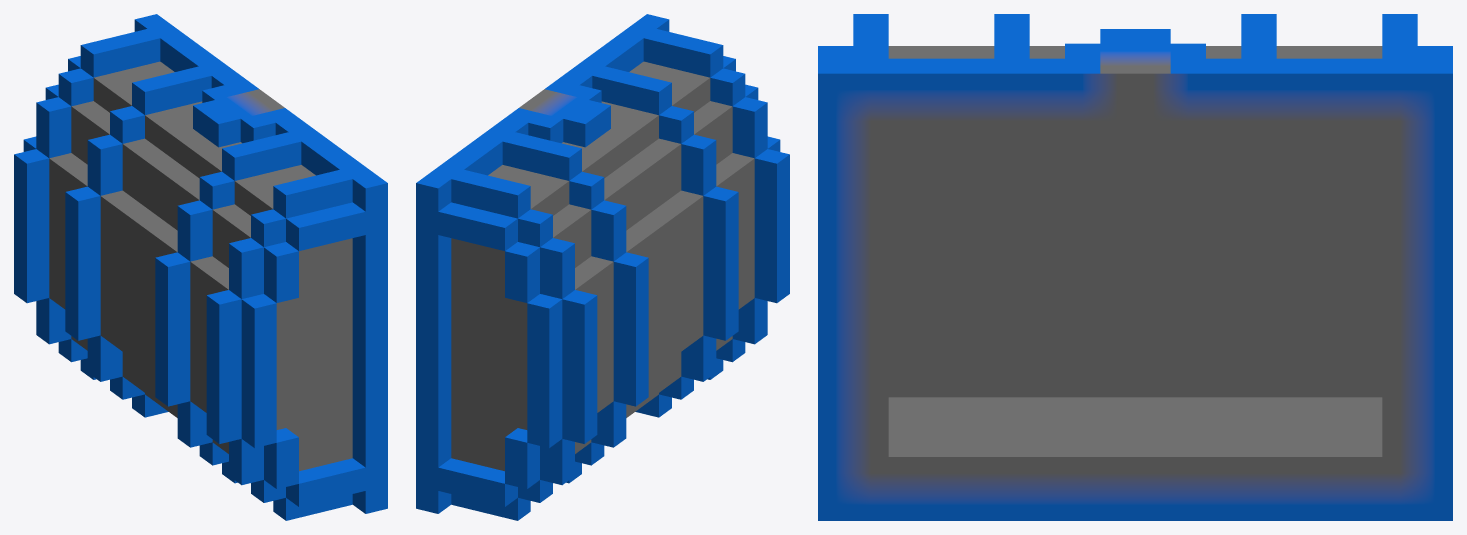
File: Matrix_part_6.obj
The picture shows the model from 3 angles, left to right: view 1: azimuth 30°, elevation 25°; view 2: azimuth 150°, elevation 25°; view 3: azimuth 270°, elevation 25°; orthographic projection. The views are drawn at different scales.
Visible parts, largest first — view 1: Matrix_part_6; view 2: Matrix_part_6; view 3: Matrix_part_6.
Part boxes in pixels (box(x1,y1,x2,y2)): Matrix_part_6: box(14, 14, 387, 520); Matrix_part_6: box(416, 14, 789, 520); Matrix_part_6: box(818, 14, 1452, 520).
Size of the model in its own units: 7 by 14 by 18.
1 material, 1 textured.
